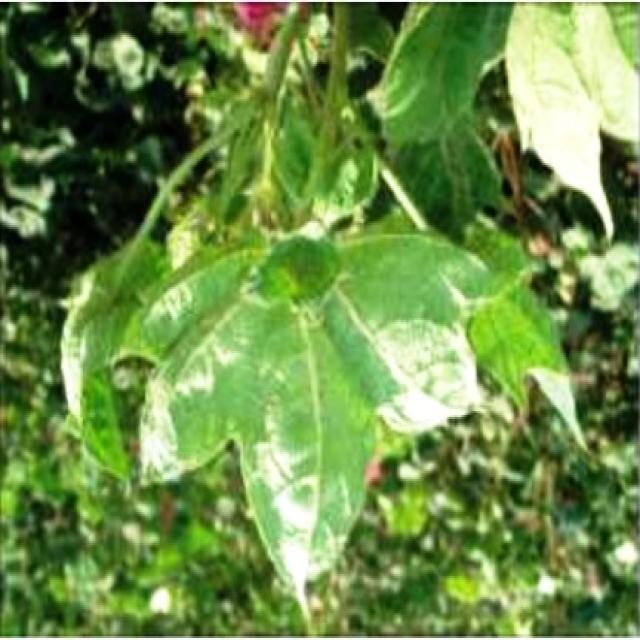Leaf Curl Virus: (192, 174, 430, 449)
